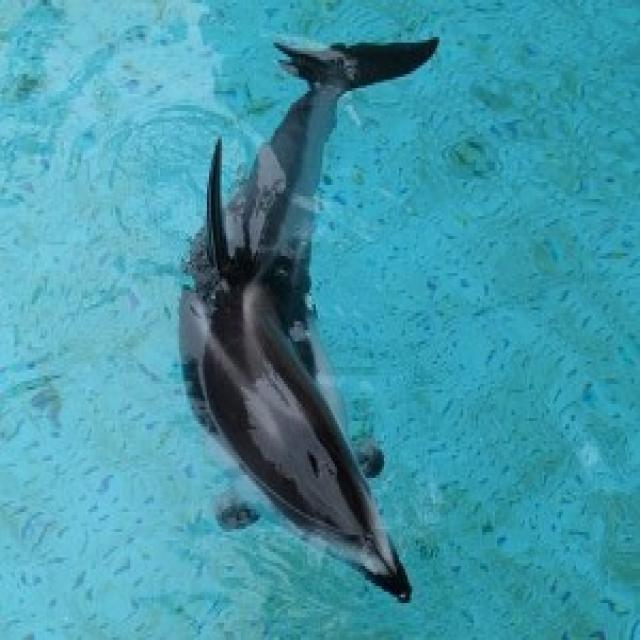Dolphin: (178, 31, 439, 621)
